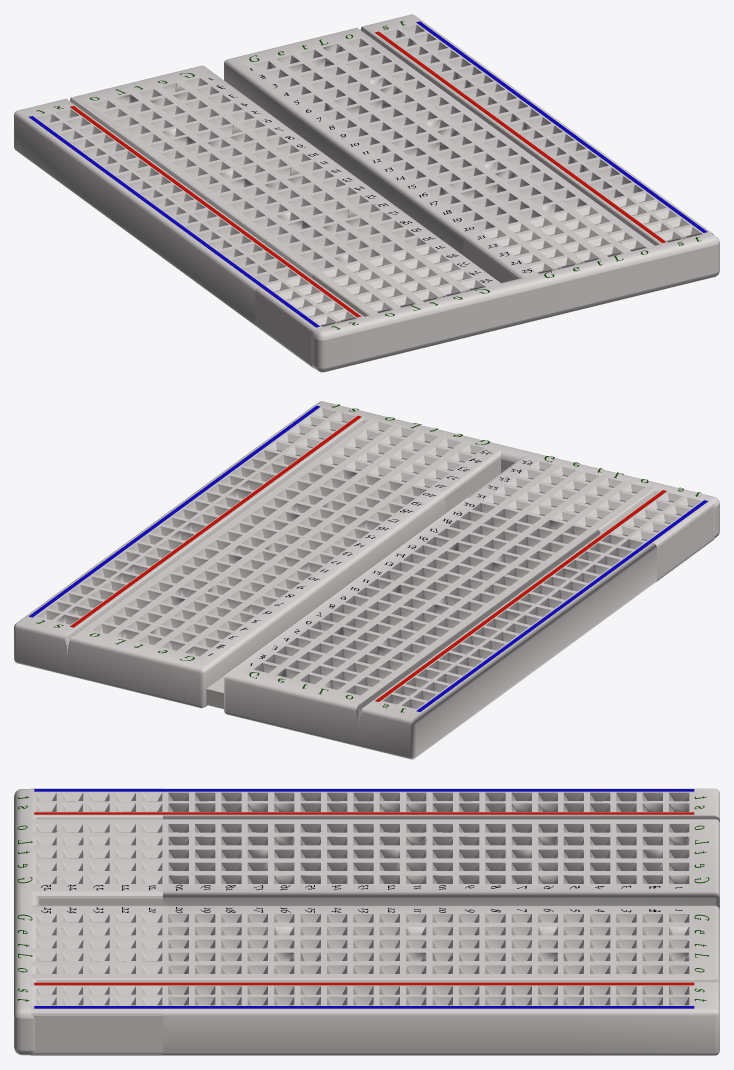
File: breadboard.FBX
3 views of the same model, one above another, from view 1: azimuth 30°, elevation 25°; view 2: azimuth 150°, elevation 25°; view 3: azimuth 270°, elevation 25° (orthographic). The views are drawn at different scales.
Visible parts, largest first — view 1: Box001; view 2: Box001; view 3: Box001.
Part boxes in pixels (x1,y1,x2,y2): Box001: [14, 14, 719, 372]; Box001: [14, 401, 719, 759]; Box001: [14, 788, 719, 1055].
Size of the model in its own units: 105 by 10.09 by 139.
